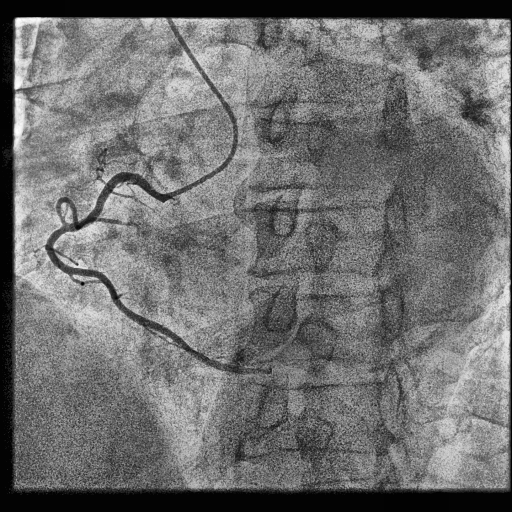rca: (46, 172, 256, 374)
